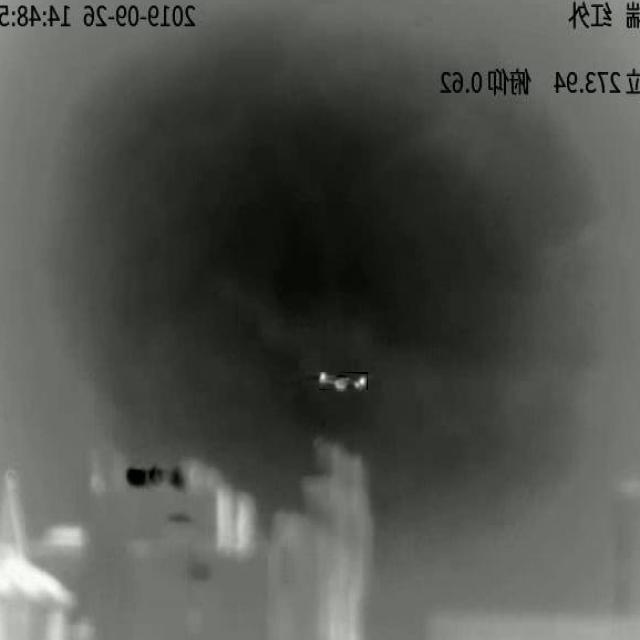drone: (319, 372, 367, 390)
